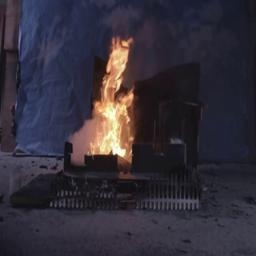fire: (76, 29, 144, 163)
